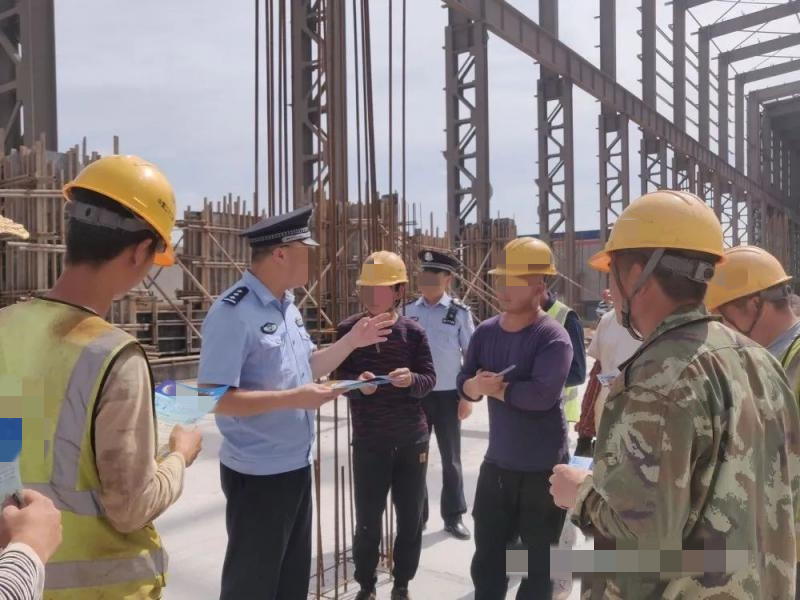helmet: (60, 155, 178, 267), (585, 189, 725, 273), (706, 243, 794, 311), (487, 237, 556, 275), (354, 249, 408, 286)
person: (548, 186, 800, 600), (1, 153, 202, 600), (198, 207, 392, 600), (455, 234, 571, 600), (336, 246, 439, 600), (402, 240, 476, 546), (705, 242, 800, 396)
vest: (1, 297, 166, 594)
